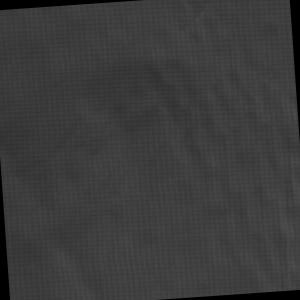Wrinkle: (130, 1, 300, 300), (1, 98, 118, 300)
